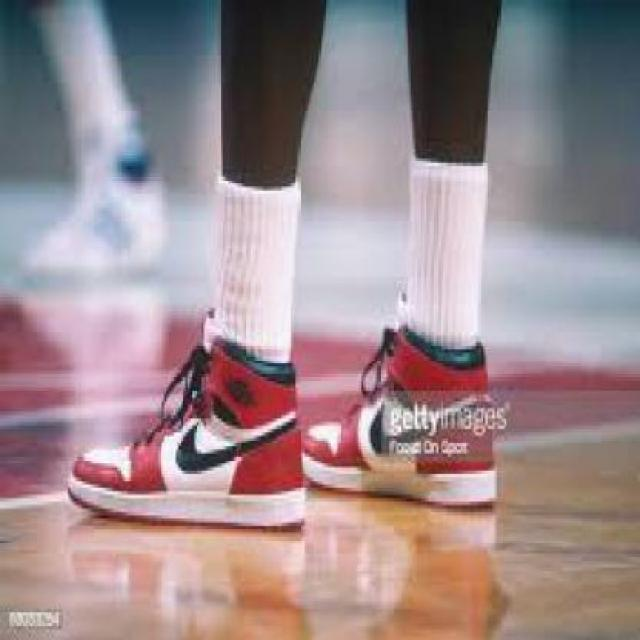Nike: (172, 412, 294, 470)
